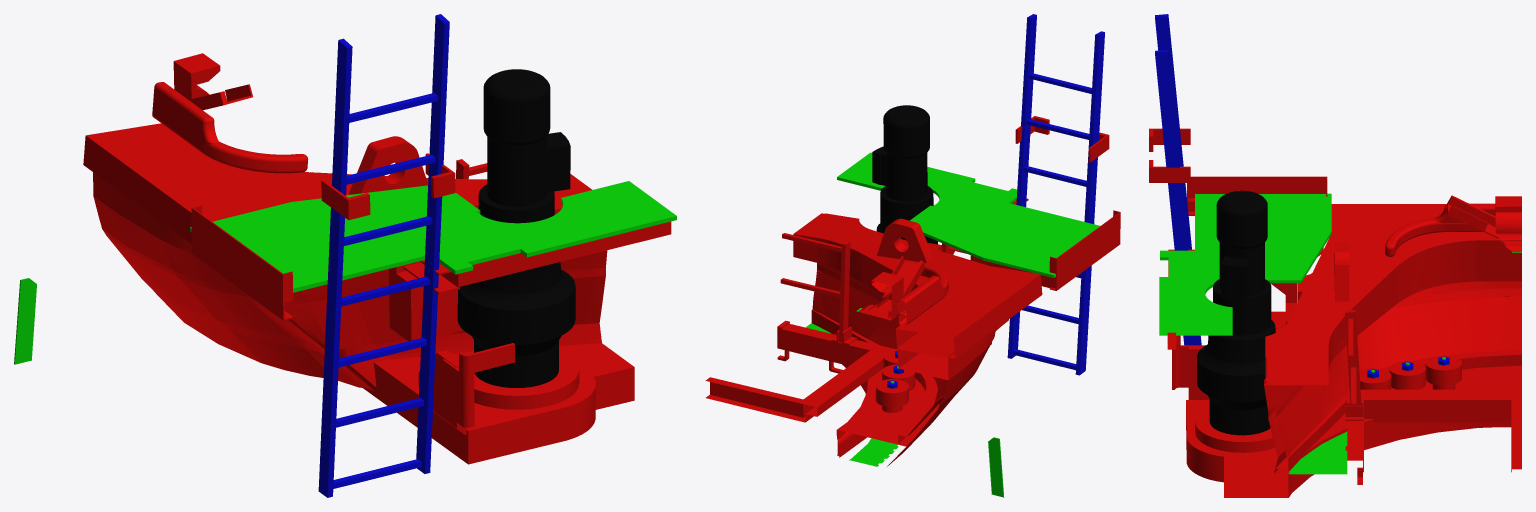
The model's file is Nacelle Interior A2.fbx.
3 views of the same model, side by side, from view 1: azimuth 30°, elevation 25°; view 2: azimuth 150°, elevation 25°; view 3: azimuth 270°, elevation 25° (orthographic). The views are drawn at different scales.
Parts seen in each view (by area): view 1: LOD0_SM_TurbineTop_08; view 2: LOD0_SM_TurbineTop_08; view 3: LOD0_SM_TurbineTop_08.
Boxes of the visible parts, box(x1,y1,x2,y2) form: LOD0_SM_TurbineTop_08: box(14, 14, 676, 497); LOD0_SM_TurbineTop_08: box(705, 14, 1120, 497); LOD0_SM_TurbineTop_08: box(1149, 14, 1521, 497).
Bounding box in the file's own units: 197 × 208 × 194.
